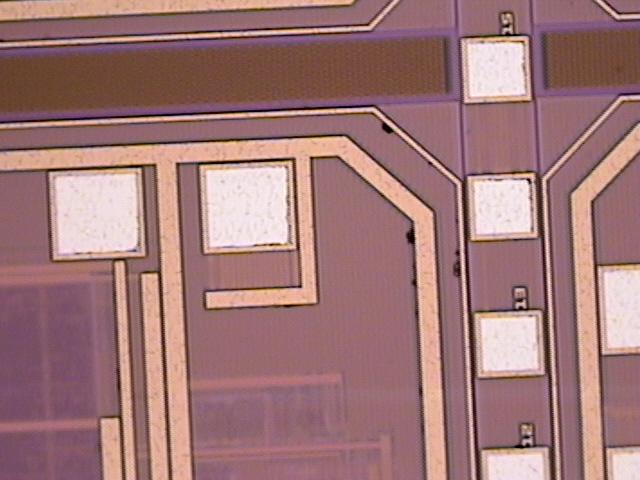PO CONTAMINATION: (377, 118, 471, 327)
